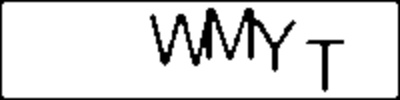M: (204, 5, 257, 62)
T: (301, 35, 349, 94)
W: (148, 11, 213, 69)
Y: (251, 14, 301, 76)
